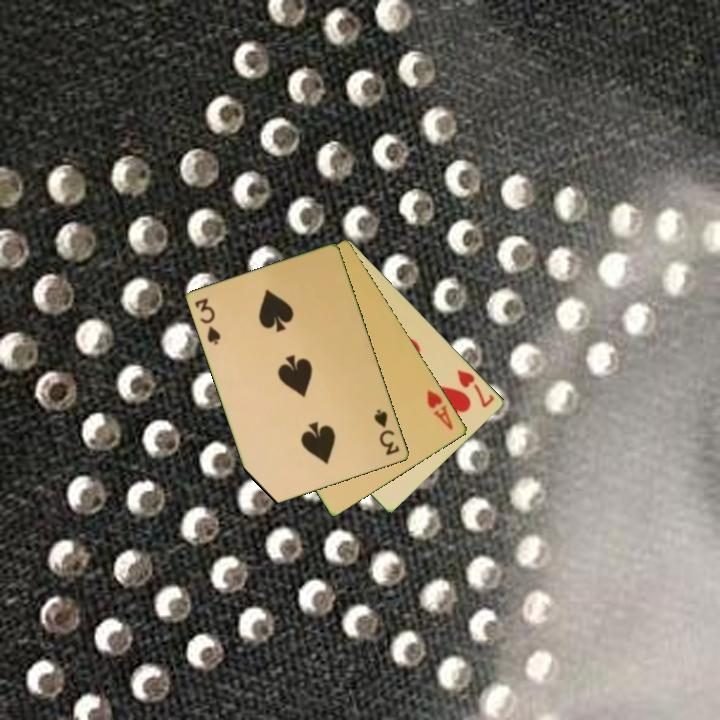3s: (192, 294, 224, 348), (371, 406, 403, 458)
7h: (453, 366, 498, 411)
Ah: (423, 386, 456, 433)
